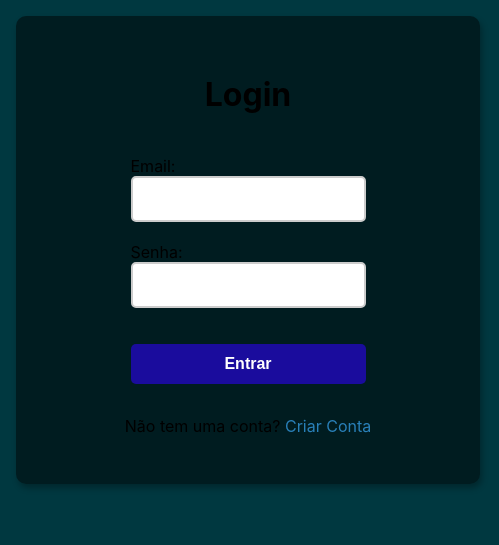
Componente Login › deve exibir mensagem de erro para credenciais inválidas
Type "usuario@teste.com" into the field labelled "Email:". click: [248, 199]
box: [130,176,366,222]
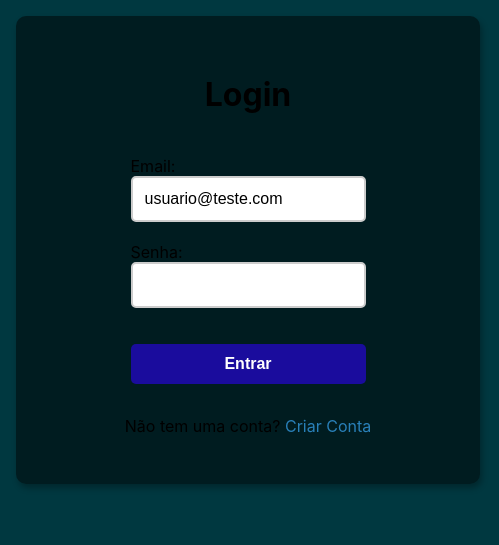
Type "senhaIncorreta" into the password field labelled "Senha:". click: [248, 285]
box: [130,262,366,308]
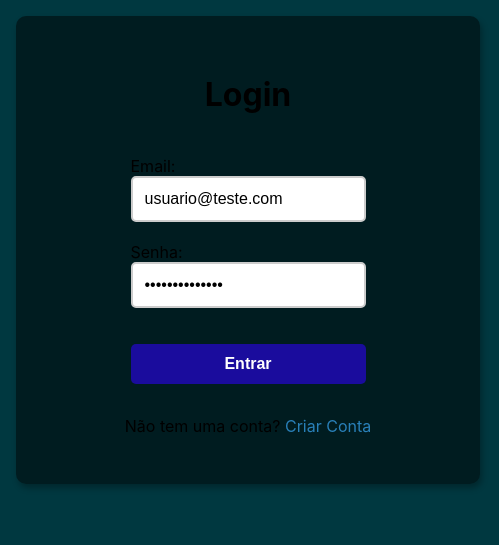
Click the button "Entrar". click: [248, 364]
box: [130,344,366,384]
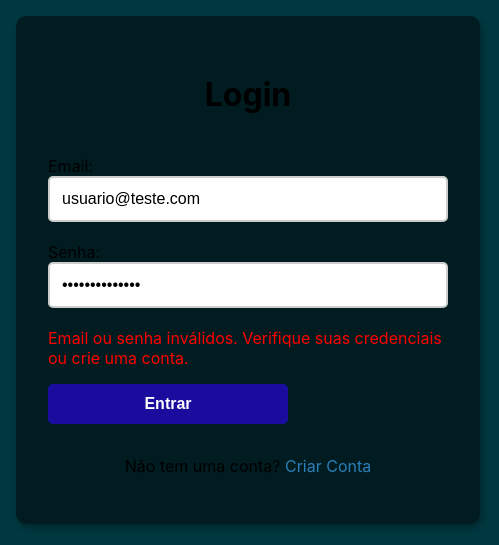
Expected: the text "Email ou senha inválidos." is shown, [48,328,442,368]
